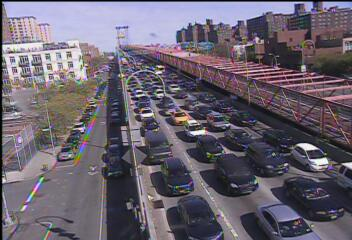neg: (19, 171, 58, 224), (93, 22, 126, 67), (140, 149, 173, 193), (23, 33, 52, 71), (139, 61, 166, 96), (214, 48, 241, 83), (281, 37, 304, 68), (51, 120, 71, 146), (114, 100, 133, 124), (179, 17, 197, 41), (256, 113, 271, 134)
